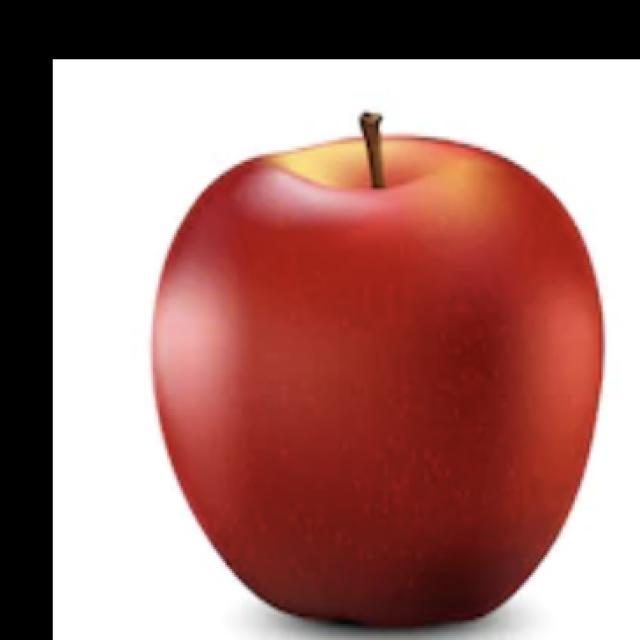Fresh Apple: (146, 110, 613, 640)
